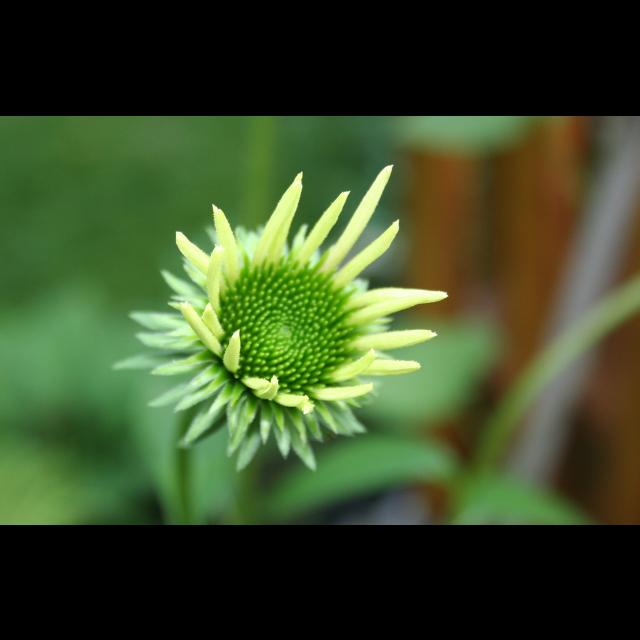Flower: (148, 160, 436, 452)
